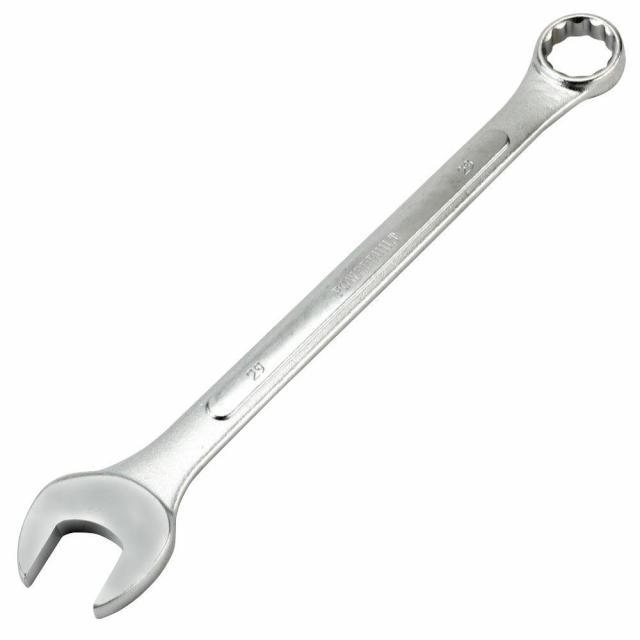wrench: (9, 11, 630, 624)
